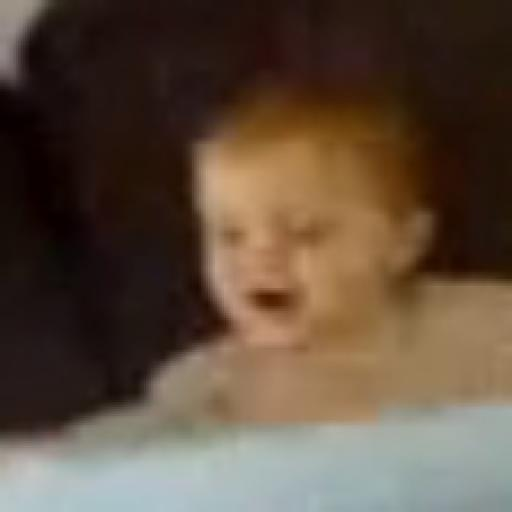Autism: (182, 114, 431, 378)
